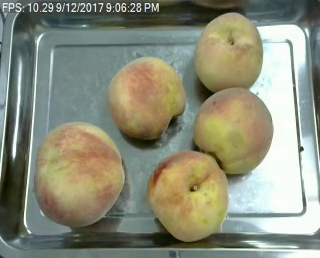Peach: (35, 119, 125, 229), (146, 149, 229, 243), (107, 54, 187, 141), (193, 87, 272, 175), (196, 13, 265, 95)
